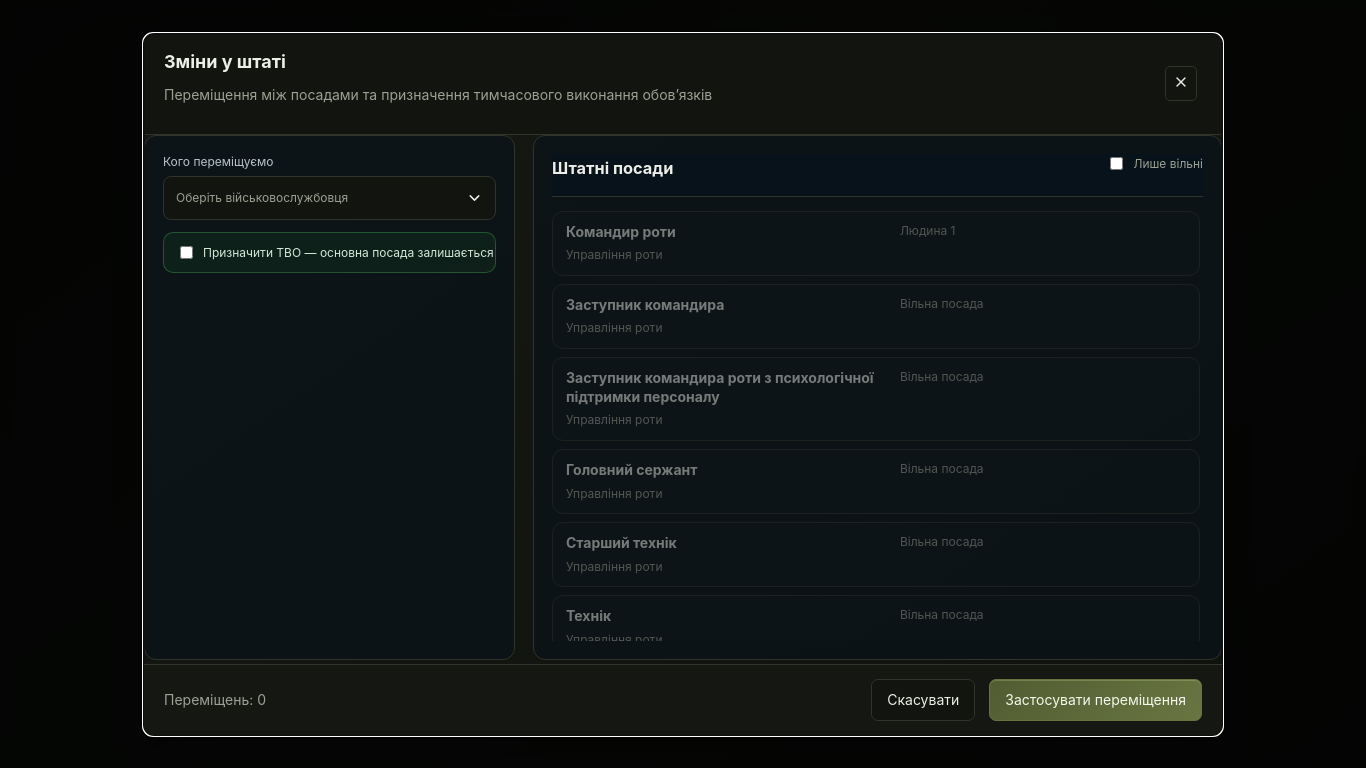
Конкретні місця у штаті › не показує попередження до початку переміщення та фільтрує саме вакансії
Expected: the button "Застосувати переміщення" is disabled, x1=989 y1=678 x2=1202 y2=720
Click the checkbox labelled "Лише вільні". click: (1117, 163)
box: x1=1110 y1=156 x2=1123 y2=170
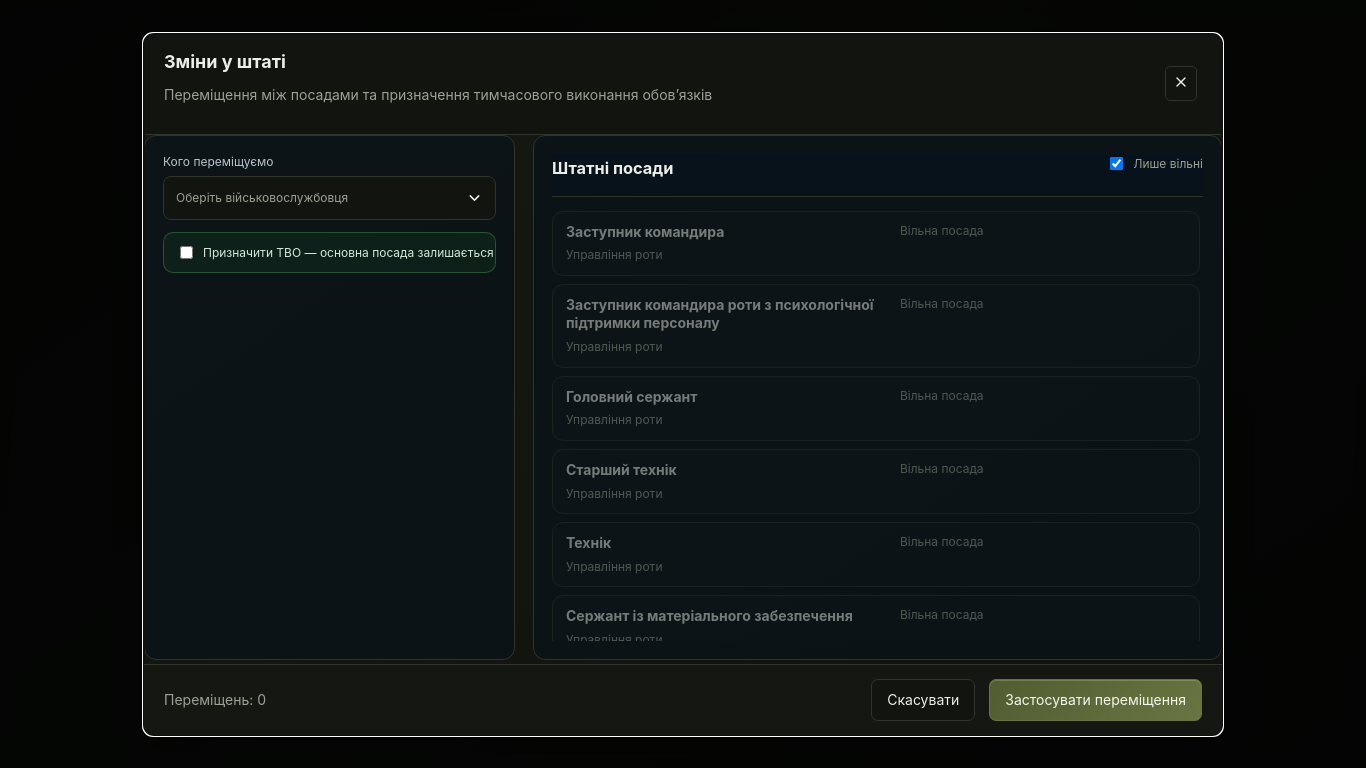
Result: the button "Командир роти" is gone
